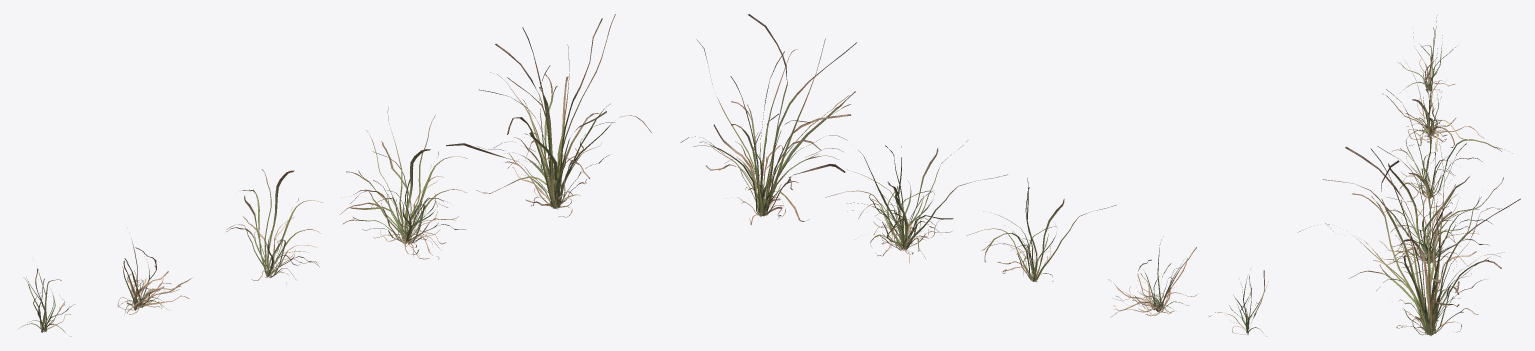
File: grass_medium_02_1k.gltf
3 renders of one model, left to right at view 1: azimuth 30°, elevation 25°; view 2: azimuth 150°, elevation 25°; view 3: azimuth 270°, elevation 25°, orthographic. The views are drawn at different scales.
Parts seen in each view (by area): view 1: grass_medium_02; view 2: grass_medium_02; view 3: grass_medium_02.
Part boxes in pixels (box(x1,y1,x2,y2)): grass_medium_02: box(19, 14, 651, 336); grass_medium_02: box(680, 14, 1268, 334); grass_medium_02: box(1297, 15, 1520, 335).
Size of the model in its own units: 1.31 by 0.4053 by 0.4332.
Materials: 1 (1 with a texture image).
